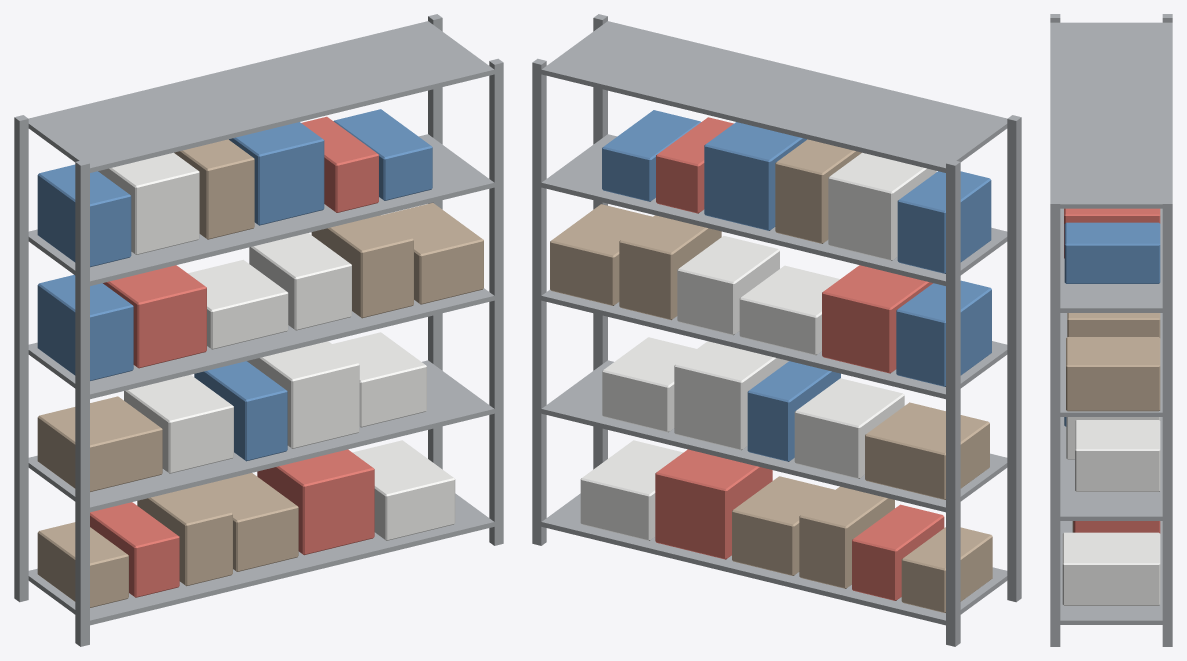
Rendered from parts_shelf.glb.
The picture shows the model from 3 angles, left to right: view 1: azimuth 30°, elevation 25°; view 2: azimuth 150°, elevation 25°; view 3: azimuth 270°, elevation 25°; orthographic projection. The views are drawn at different scales.
Parts seen in each view (by area): view 1: parts_shelf_steel, parts_shelf_paint_w, parts_shelf_fabric, parts_shelf_drum_b, parts_shelf_tool_r; view 2: parts_shelf_steel, parts_shelf_paint_w, parts_shelf_fabric, parts_shelf_drum_b, parts_shelf_tool_r; view 3: parts_shelf_steel, parts_shelf_paint_w, parts_shelf_fabric, parts_shelf_drum_b, parts_shelf_tool_r.
Boxes of the visible parts, x1,y1,x2,y2 form: parts_shelf_steel: [14, 14, 503, 646]; parts_shelf_paint_w: [98, 152, 455, 540]; parts_shelf_fabric: [37, 139, 483, 607]; parts_shelf_drum_b: [37, 109, 432, 461]; parts_shelf_tool_r: [90, 116, 378, 597]; parts_shelf_steel: [532, 14, 1021, 646]; parts_shelf_paint_w: [580, 152, 936, 540]; parts_shelf_fabric: [550, 139, 992, 612]; parts_shelf_drum_b: [602, 110, 991, 461]; parts_shelf_tool_r: [655, 117, 944, 600]; parts_shelf_steel: [1050, 14, 1172, 646]; parts_shelf_paint_w: [1062, 417, 1160, 605]; parts_shelf_fabric: [1066, 313, 1160, 532]; parts_shelf_drum_b: [1064, 222, 1160, 426]; parts_shelf_tool_r: [1064, 208, 1160, 533].
Bounding box in the file's own units: 1.84 × 2 × 0.5.
